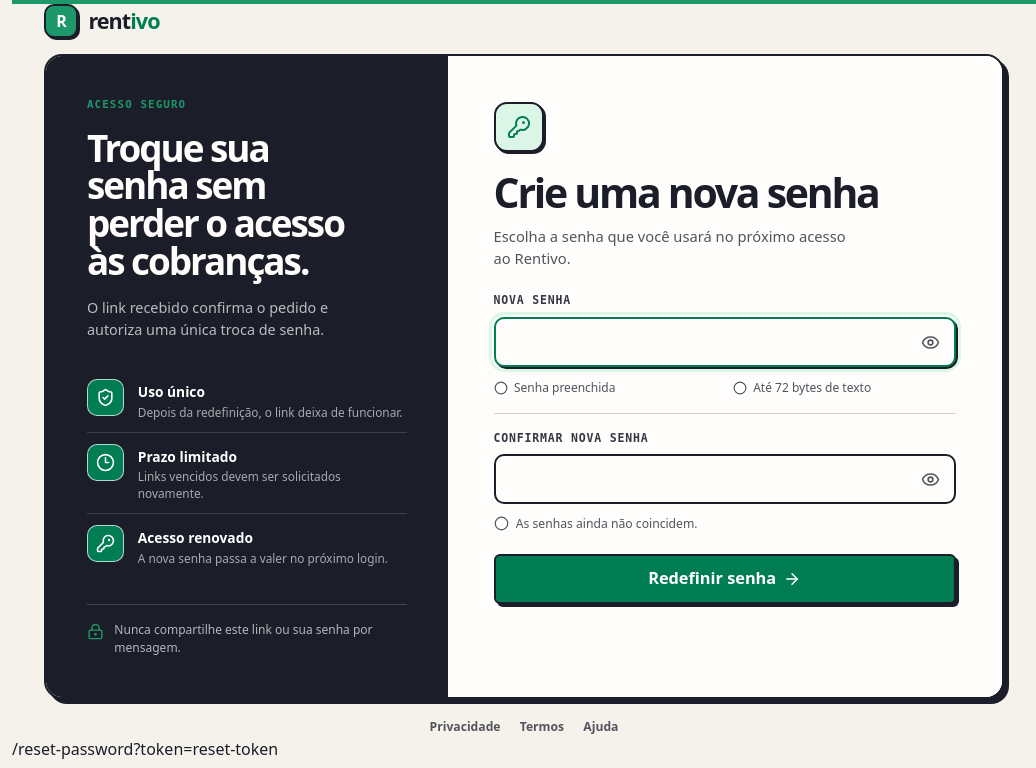
ResetPasswordPage › lets the user reveal each password without changing the values
The image size is (1036, 768).
Type "new-password" into the password field labelled "Nova senha".
click(725, 342); type("new-password")  # box 494,317 -> 956,367
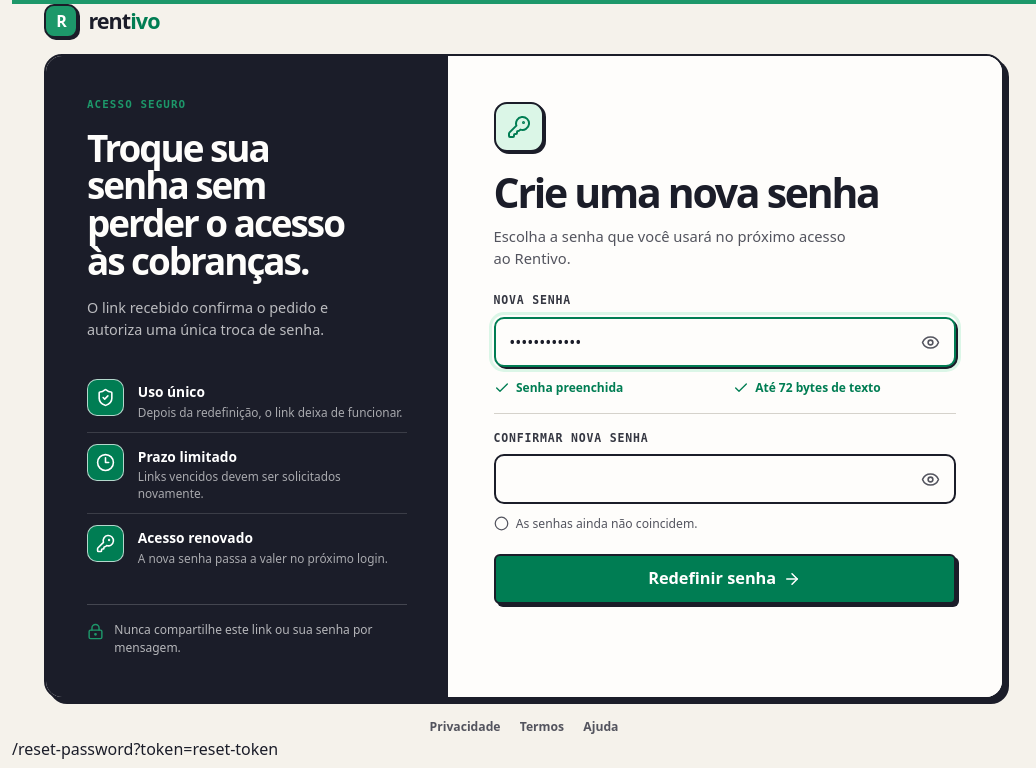
Type "new-password" into the password field labelled "Confirmar nova senha".
click(725, 479); type("new-password")  # box 494,454 -> 956,504
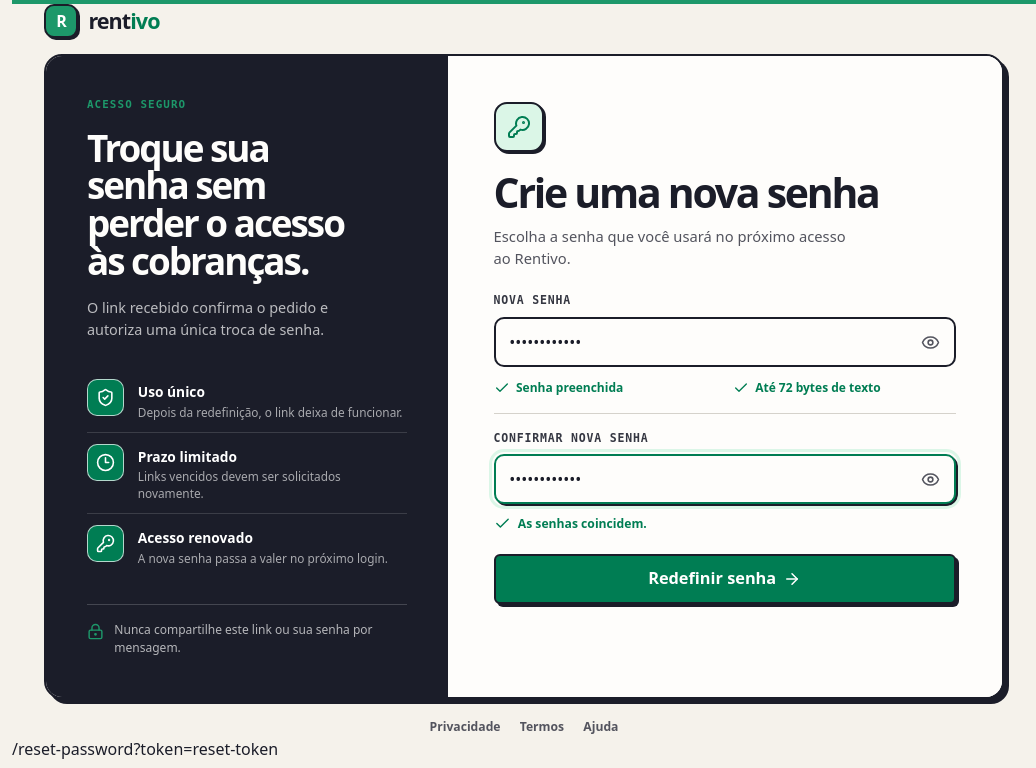
Click the button named "Mostrar nova senha".
click(931, 342)  # box 910,321 -> 952,363
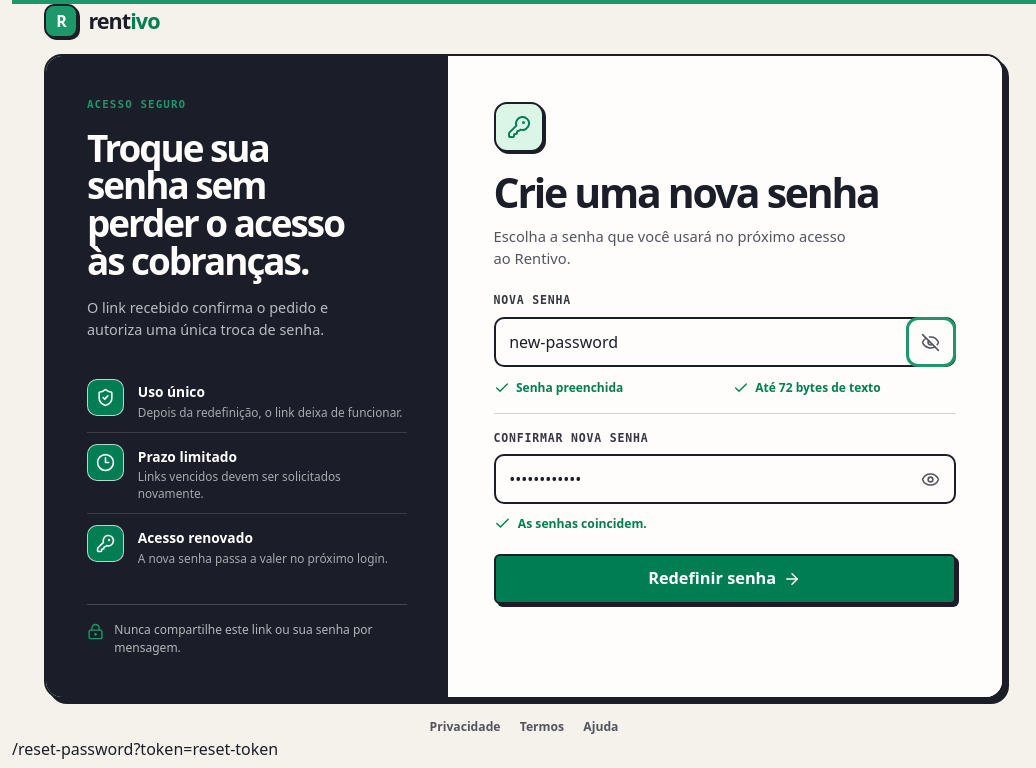
Click the button named "Mostrar confirmação da senha".
click(931, 479)  # box 910,458 -> 952,500
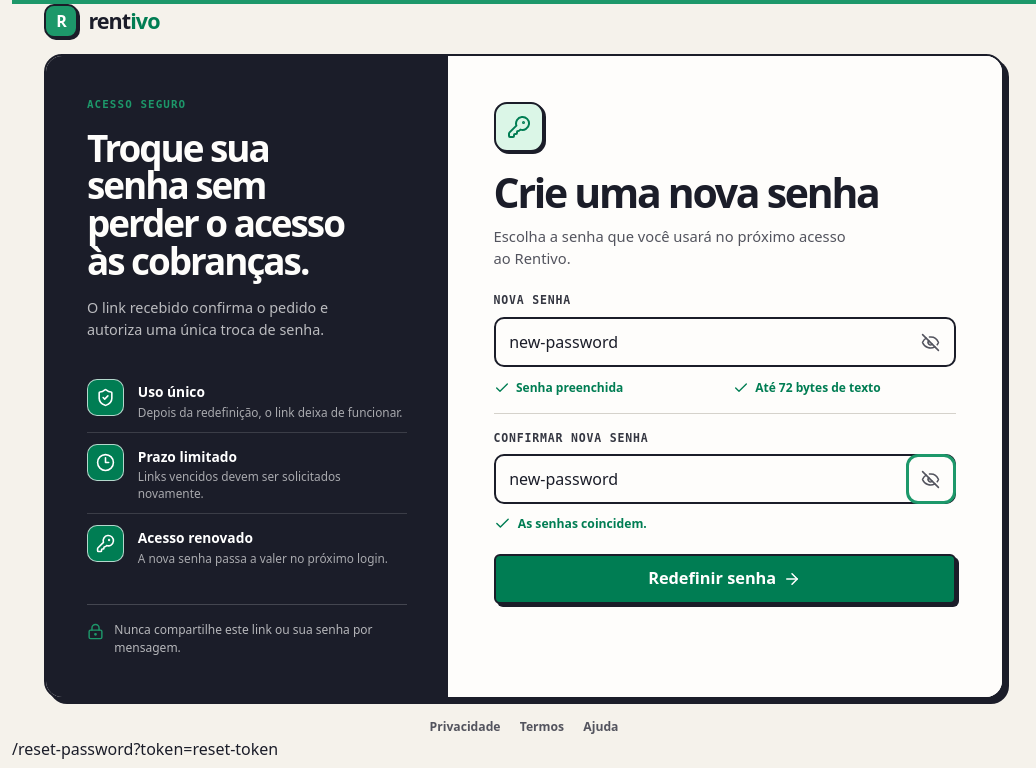
Expected: the field labelled "Nova senha" shows its text, 494,317 -> 956,367
Expected: the field labelled "Confirmar nova senha" shows its text, 494,454 -> 956,504
